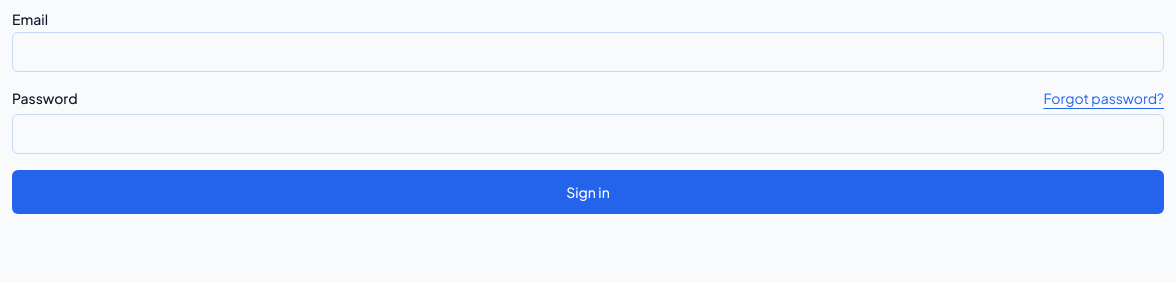
Test: LoginForm › shows an inline error when email is empty
Click the button "Sign in" at [588, 192], box [12, 170, 1164, 214]
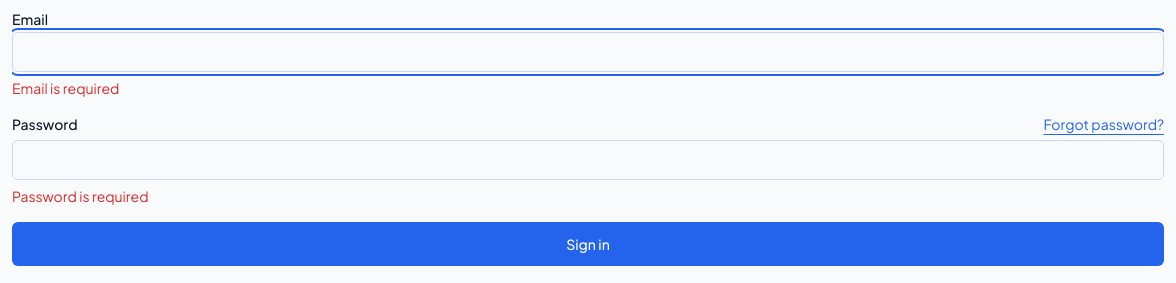
Check: the text "Email is required" is shown, box [12, 79, 119, 97]
